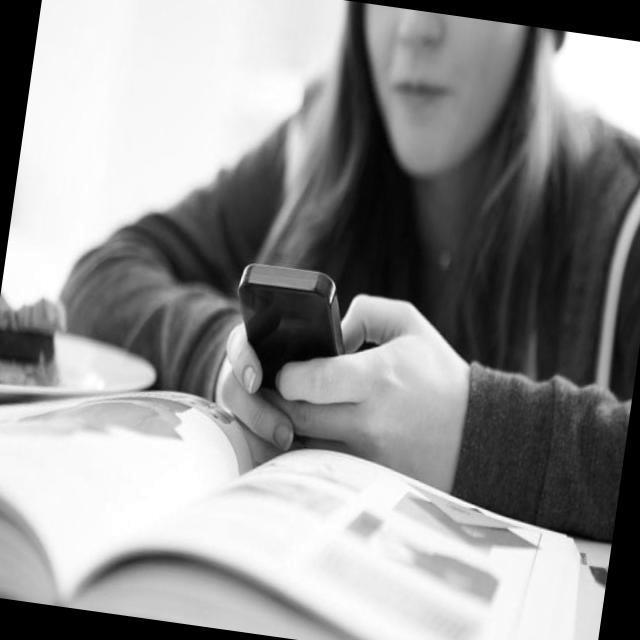phone: (225, 259, 358, 400)
